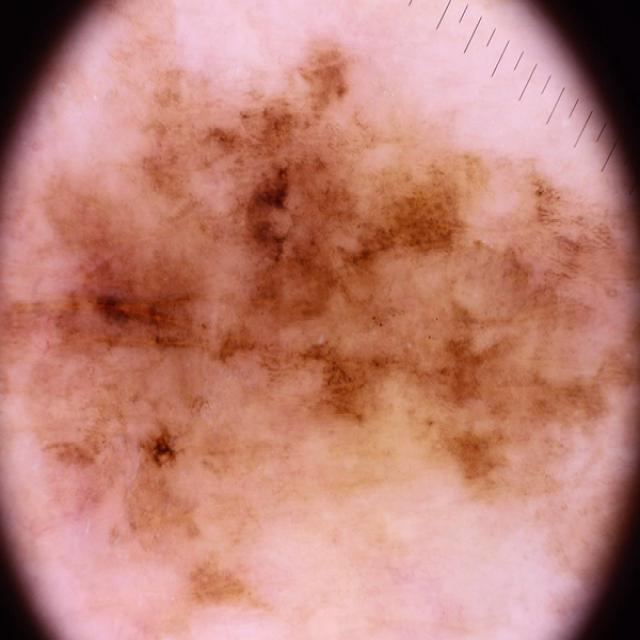MEL: (0, 0, 639, 636)
